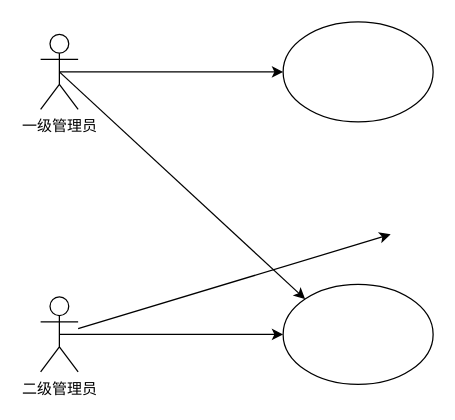
This 455x420 diagram has some shape labels left out. Here are the shapes that lost their labels. From the top down, the centre of each, then its label:
the point at 357,71: 管理员权限管理
the point at 357,333: 用户管理
